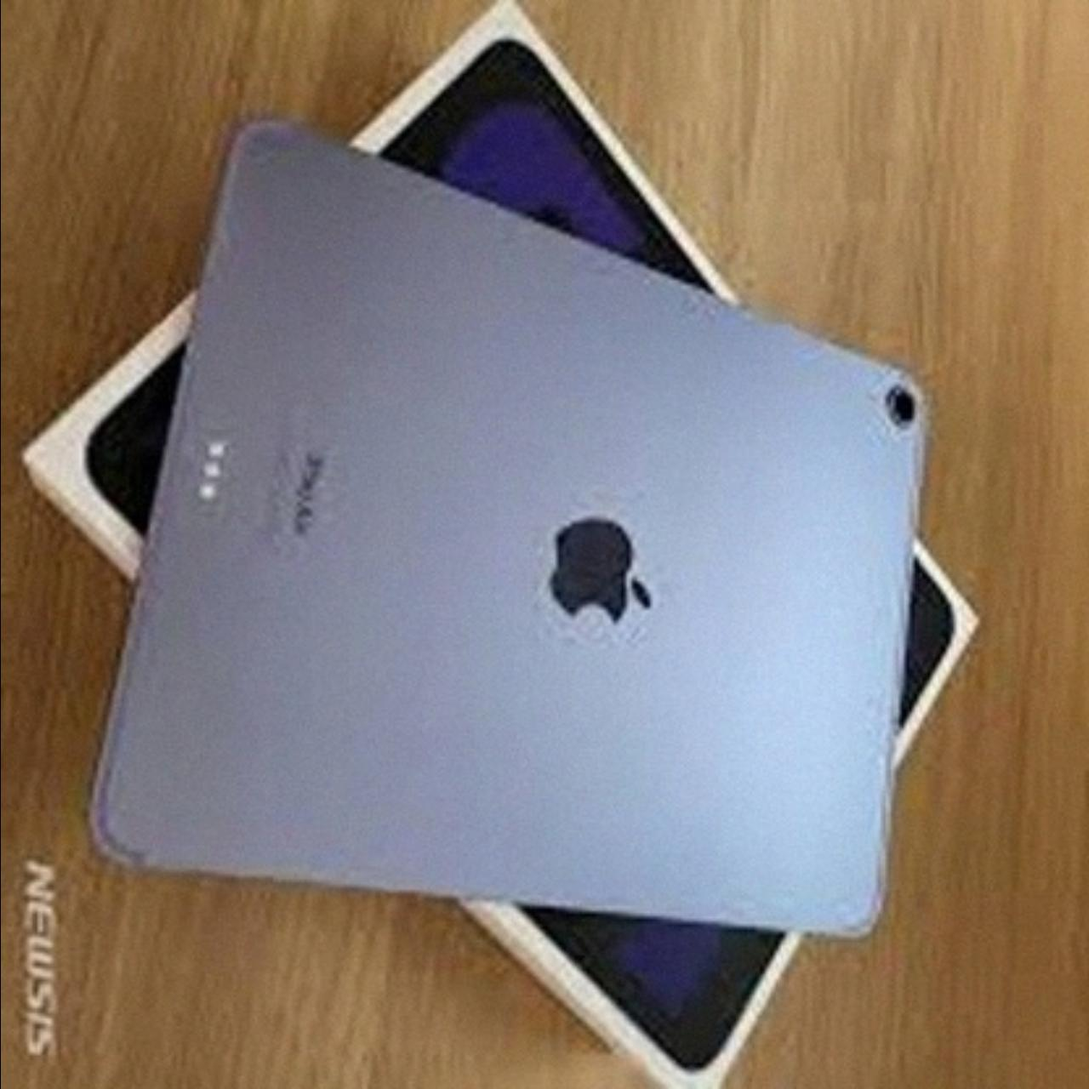Tablet_PC: (58, 113, 943, 952)
